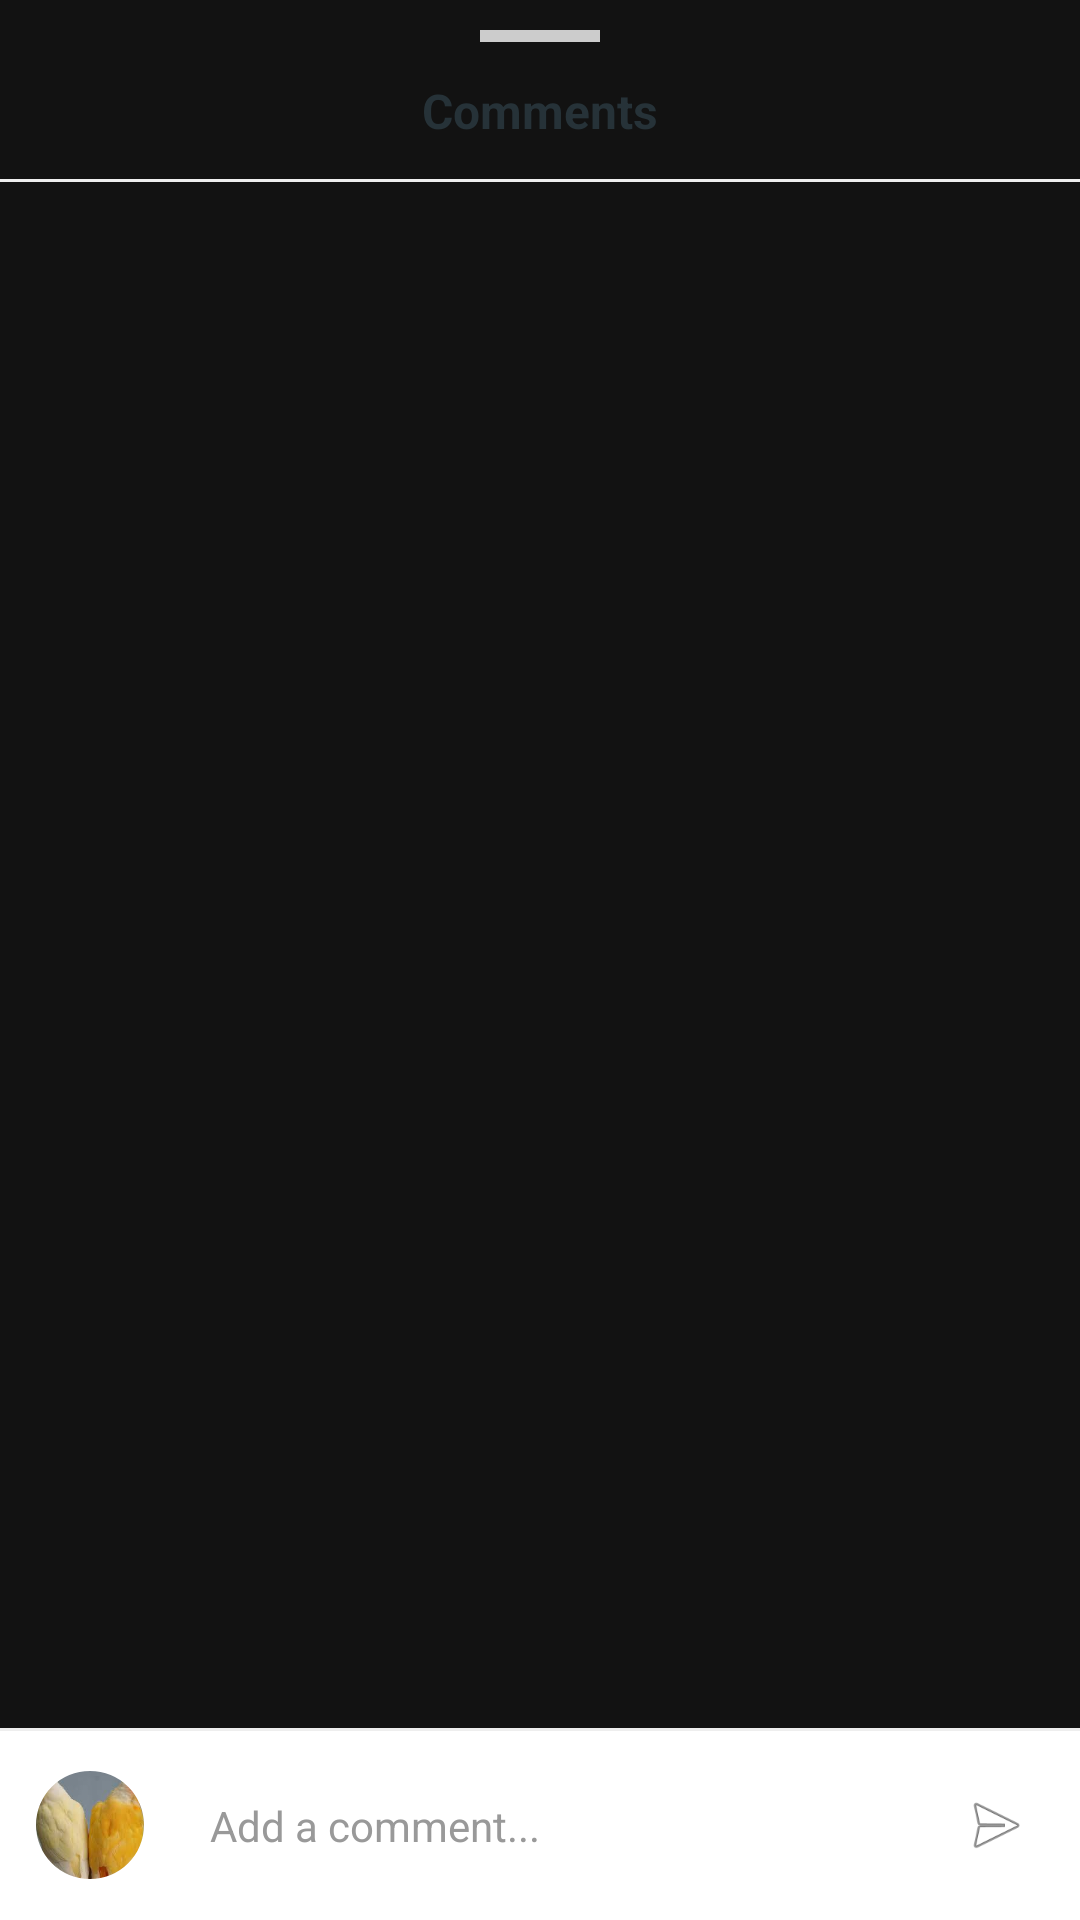

Named icons in this screenshot (1080*1920) and their centers, (x=x, y=y):
send: (x=996, y=1825)
